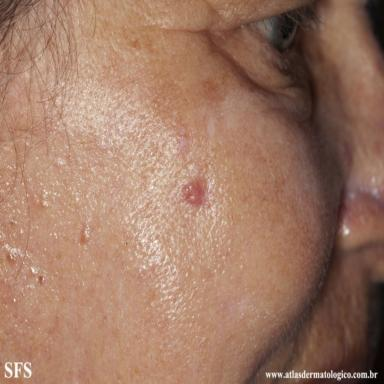basal-cell-carcinoma: (182, 176, 207, 207)
